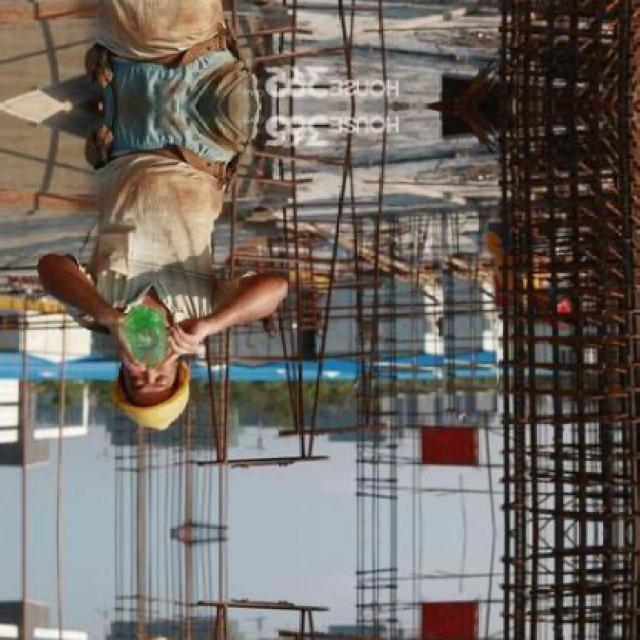con casco: (65, 317, 205, 425)
